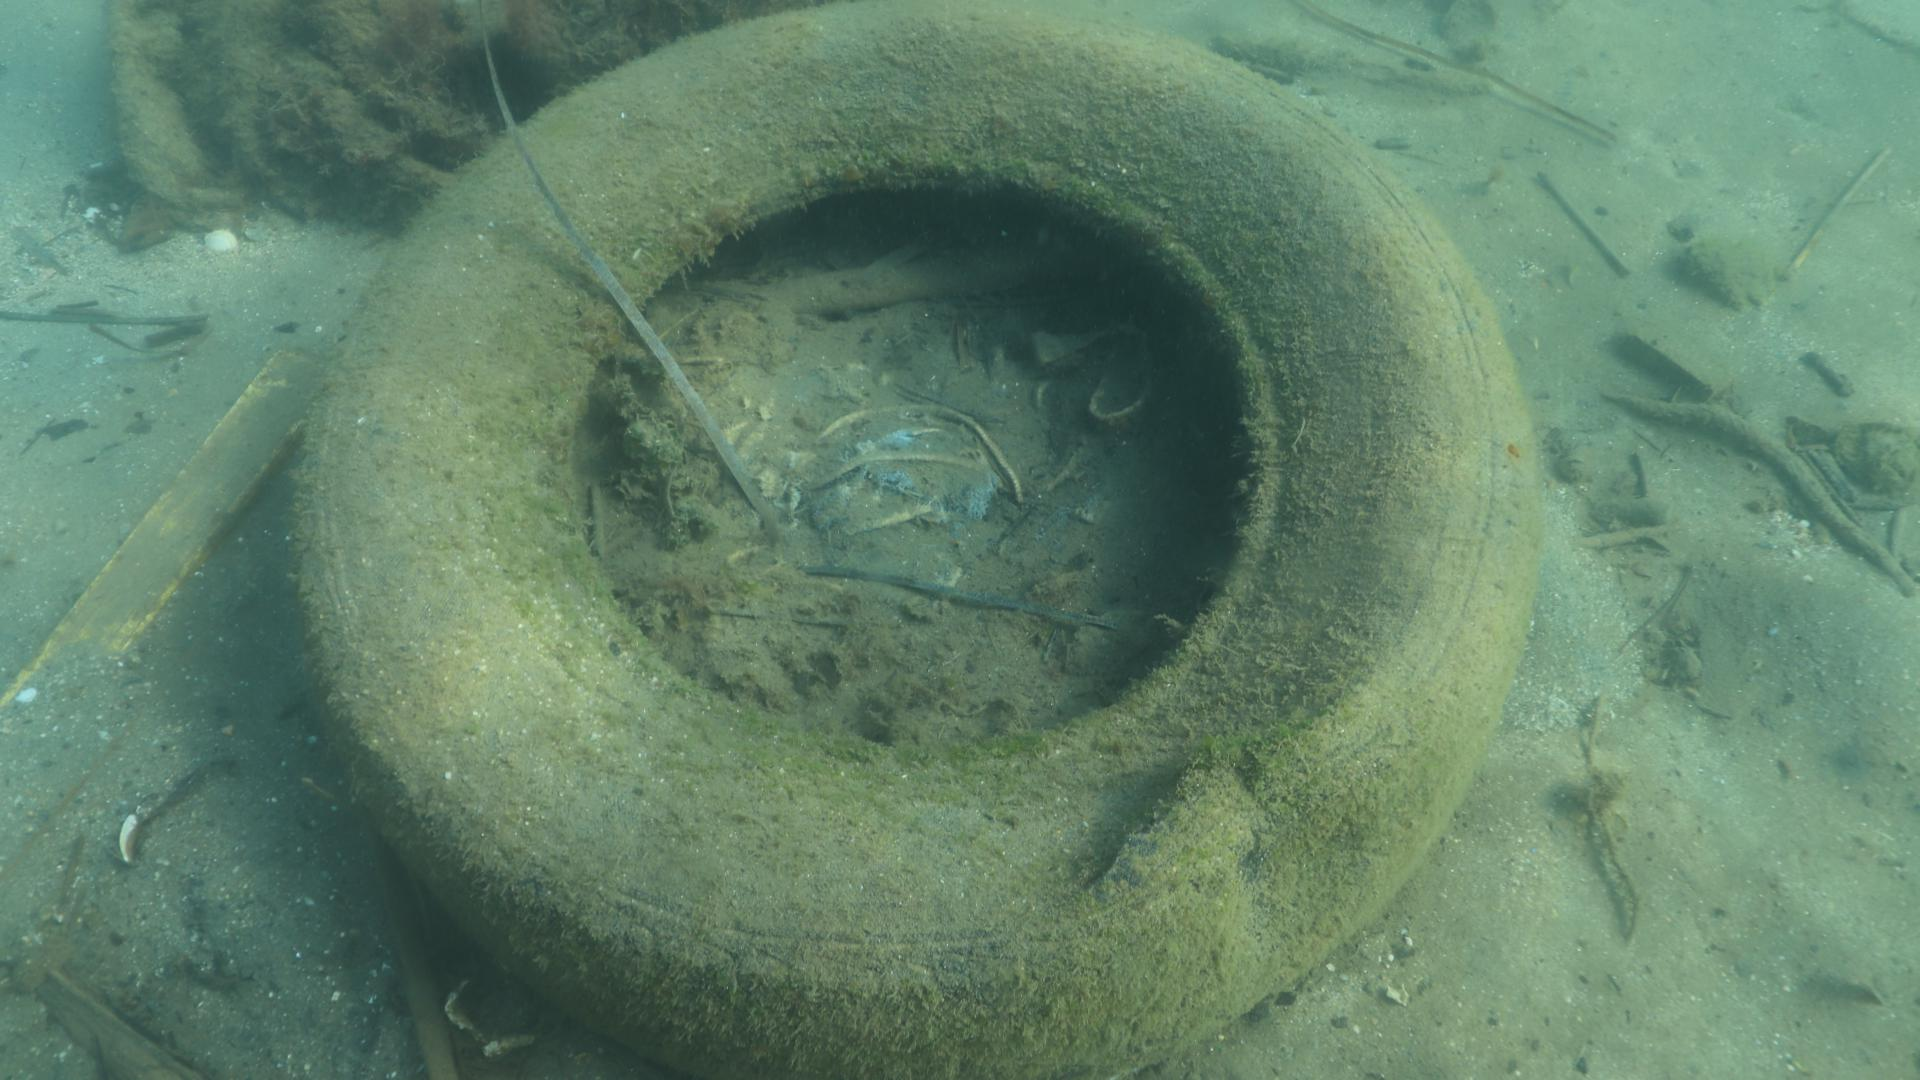tire: (287, 0, 1547, 1080)
